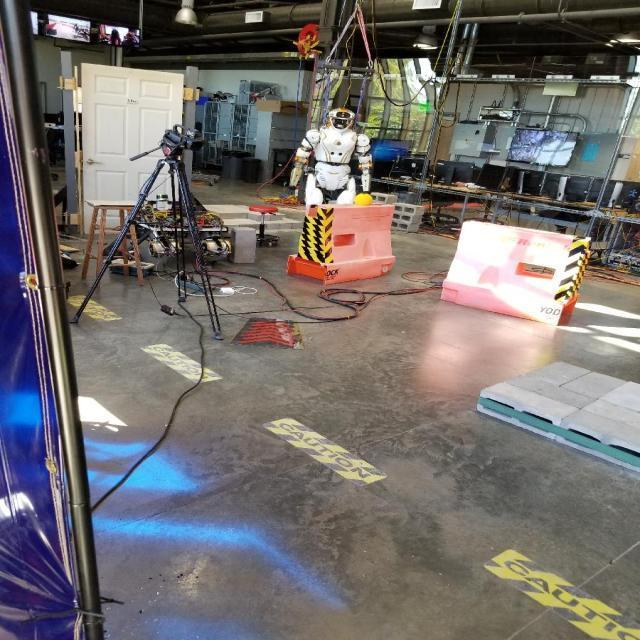door: (72, 59, 188, 243), (84, 157, 100, 167)
